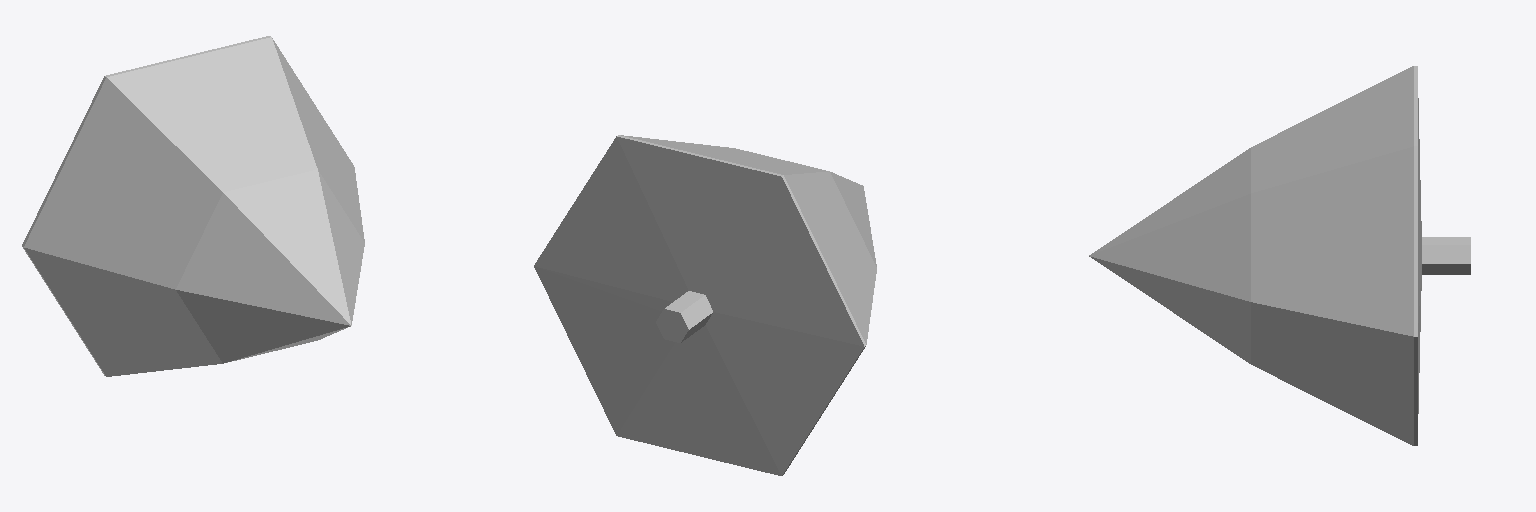
The model's file is tree2.obj.
3 renders of one model, left to right at view 1: azimuth 30°, elevation 25°; view 2: azimuth 150°, elevation 25°; view 3: azimuth 270°, elevation 25°, orthographic.
Size of the model in its own units: 19.2 by 16.62 by 19.24.